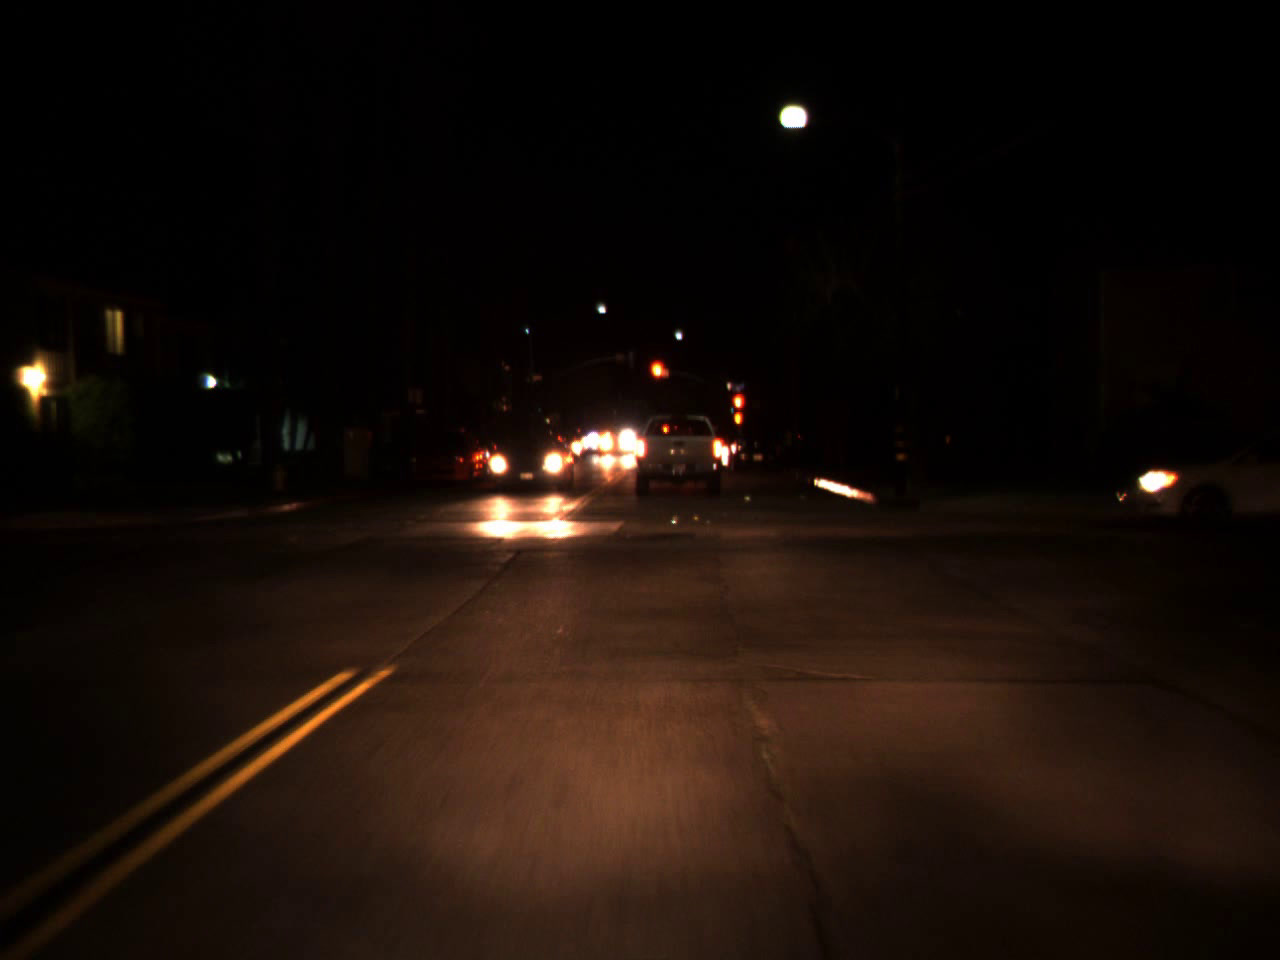stop: (647, 358, 669, 398), (730, 390, 746, 427)
